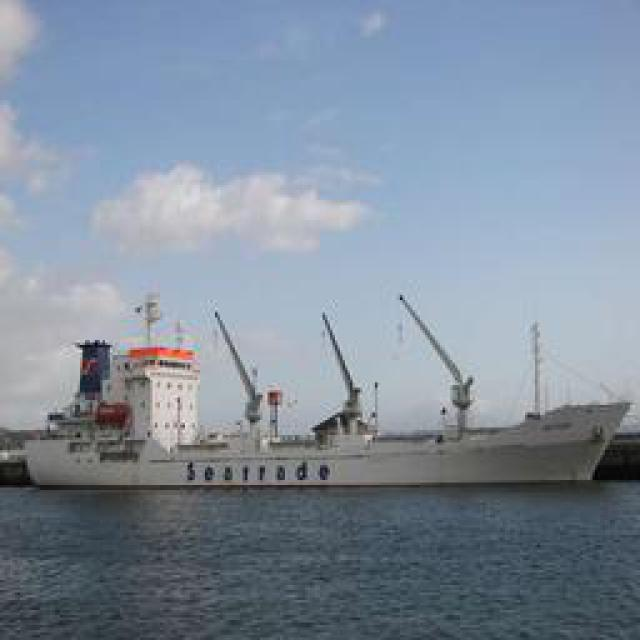Ship: (16, 291, 624, 491)
